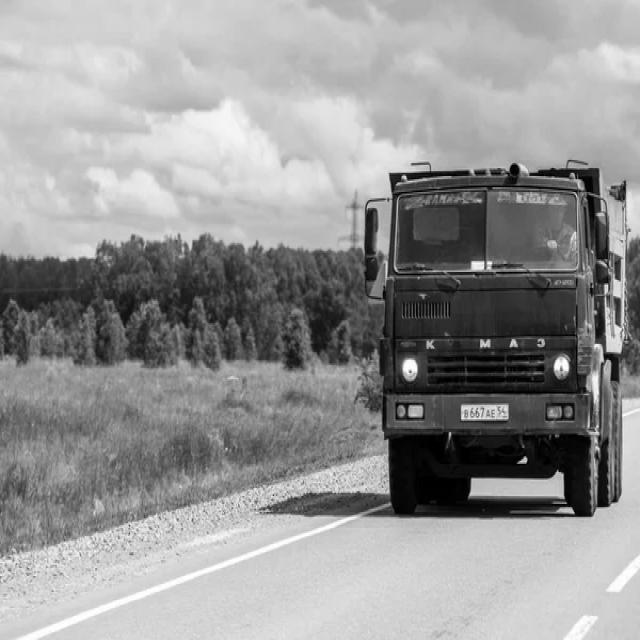Truck: (380, 165, 630, 516)
